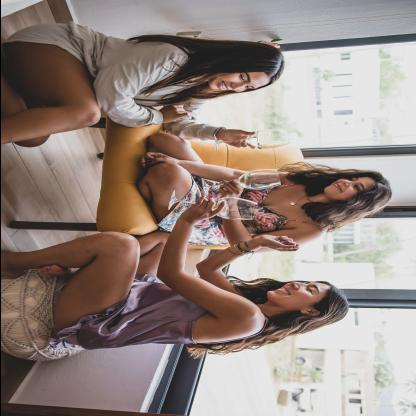Eye: (235, 72, 247, 82), (348, 184, 362, 192), (304, 286, 315, 294), (243, 84, 253, 92), (346, 177, 356, 182)
Mouth: (276, 287, 292, 297), (217, 80, 228, 92), (330, 183, 342, 193)
Nose: (287, 280, 305, 290), (228, 80, 242, 92), (340, 179, 352, 186)
